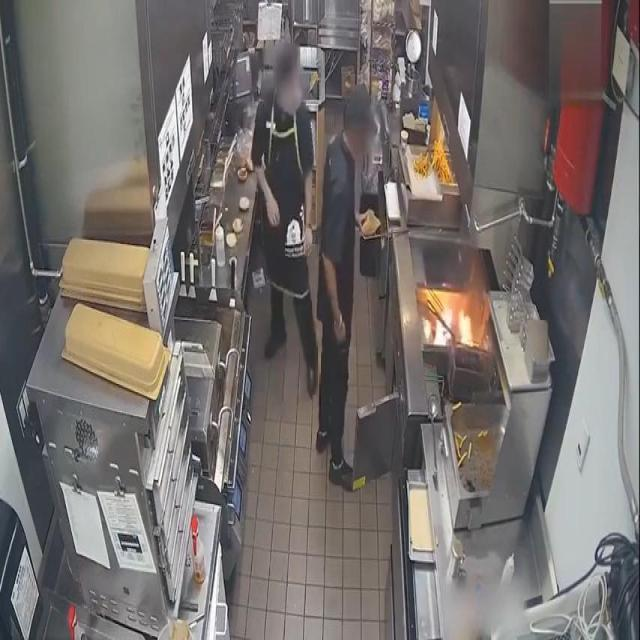smoke: (429, 305, 454, 347), (457, 305, 475, 348)
